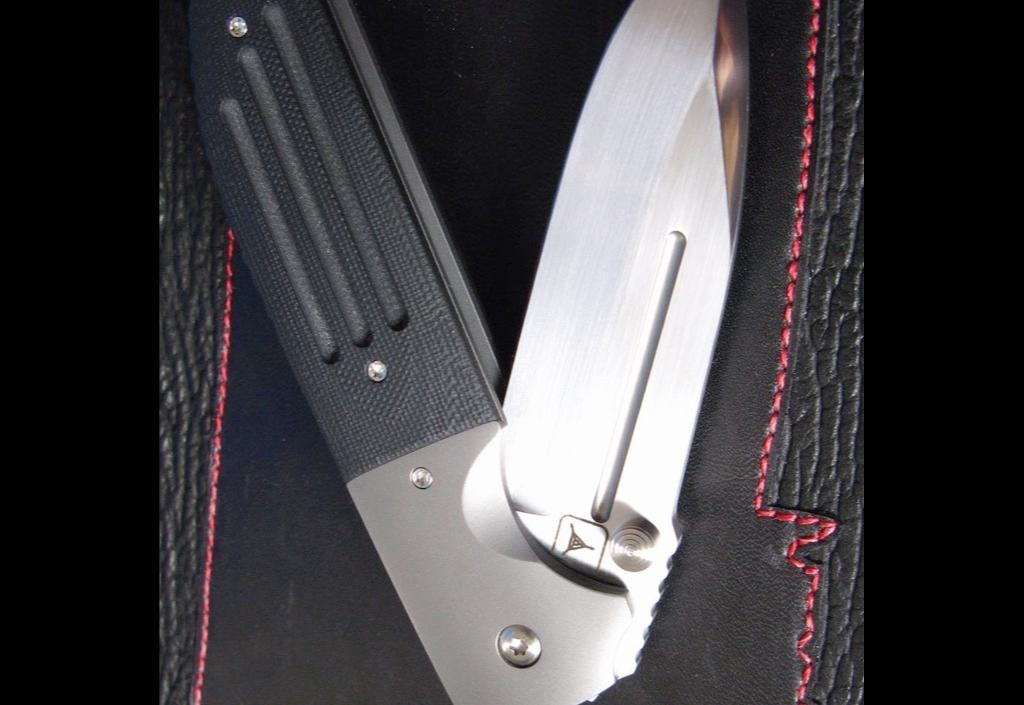melee: (185, 0, 777, 705)
